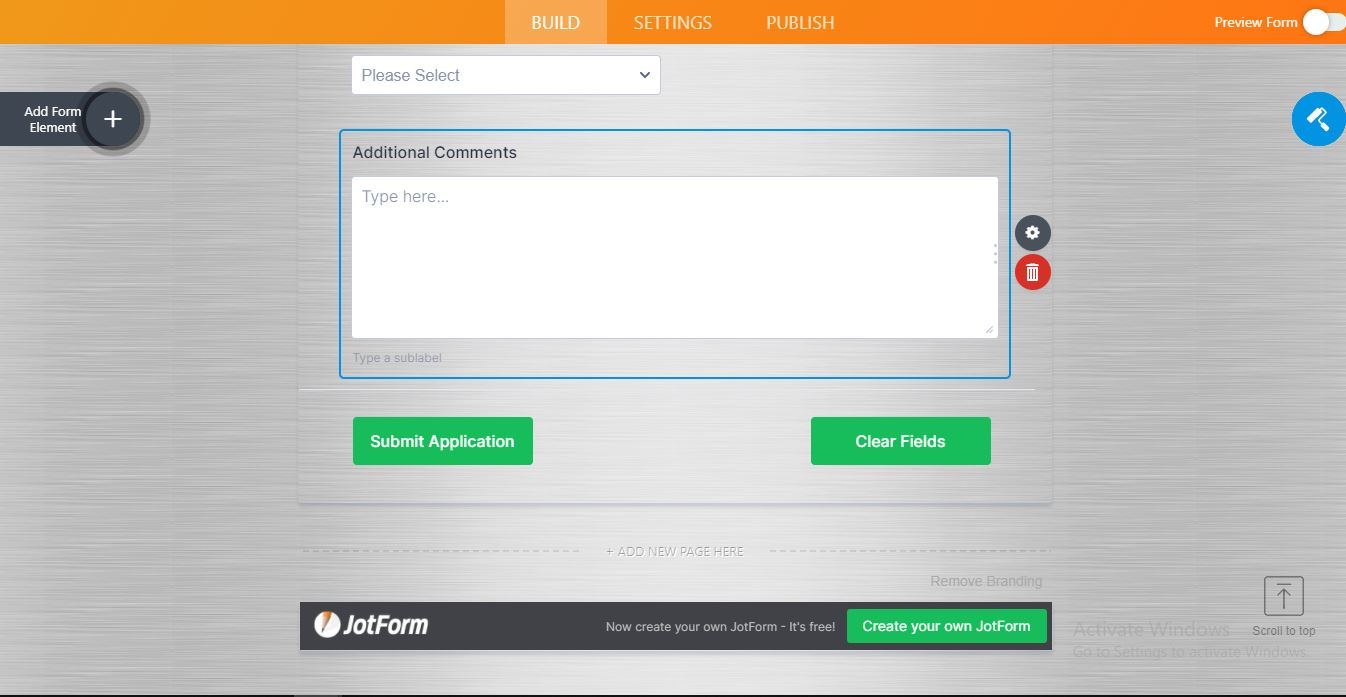Button: (355, 414, 532, 464), (810, 416, 991, 460), (850, 609, 1048, 644), (83, 82, 147, 152), (1290, 92, 1346, 146)
Menu Bar: (496, 0, 852, 49)
Text Field: (351, 174, 997, 337), (351, 55, 661, 96)
